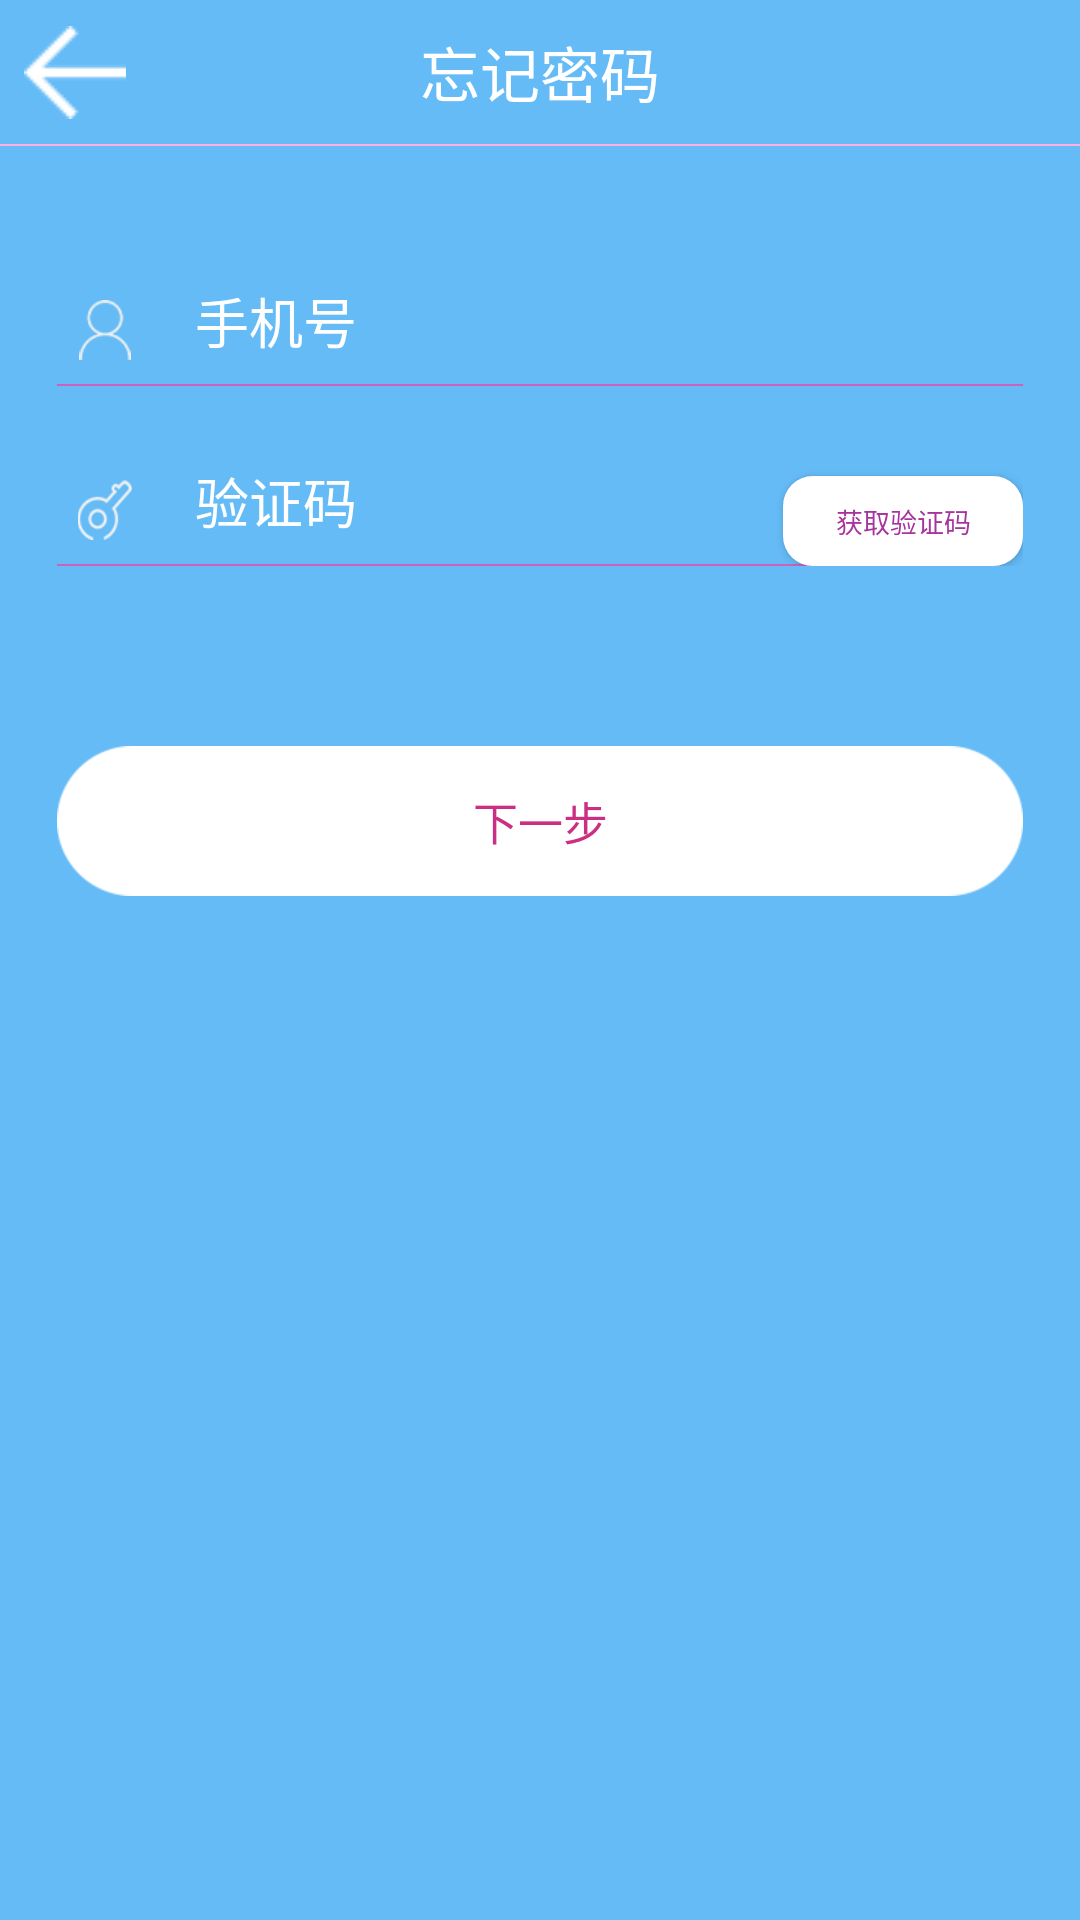

Icons on this 1080px x 1920px Android screen, each with the point to tap as (x,y):
username: (105,330)
